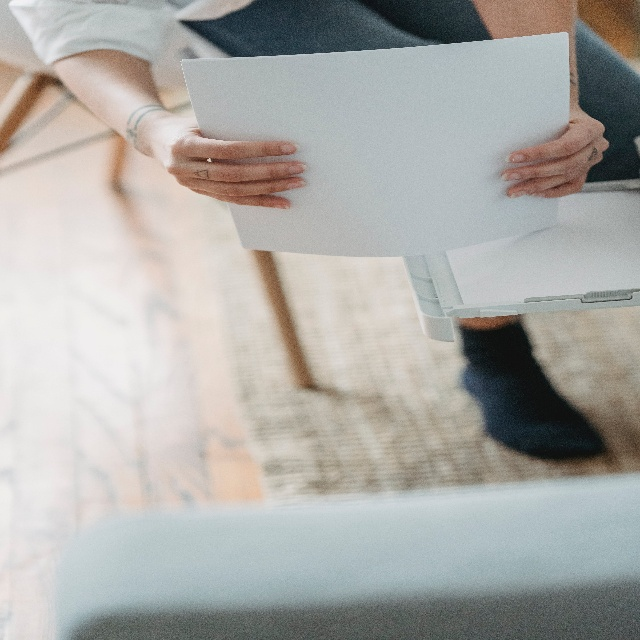Sin_guantes: (154, 115, 308, 210), (500, 108, 609, 200)
